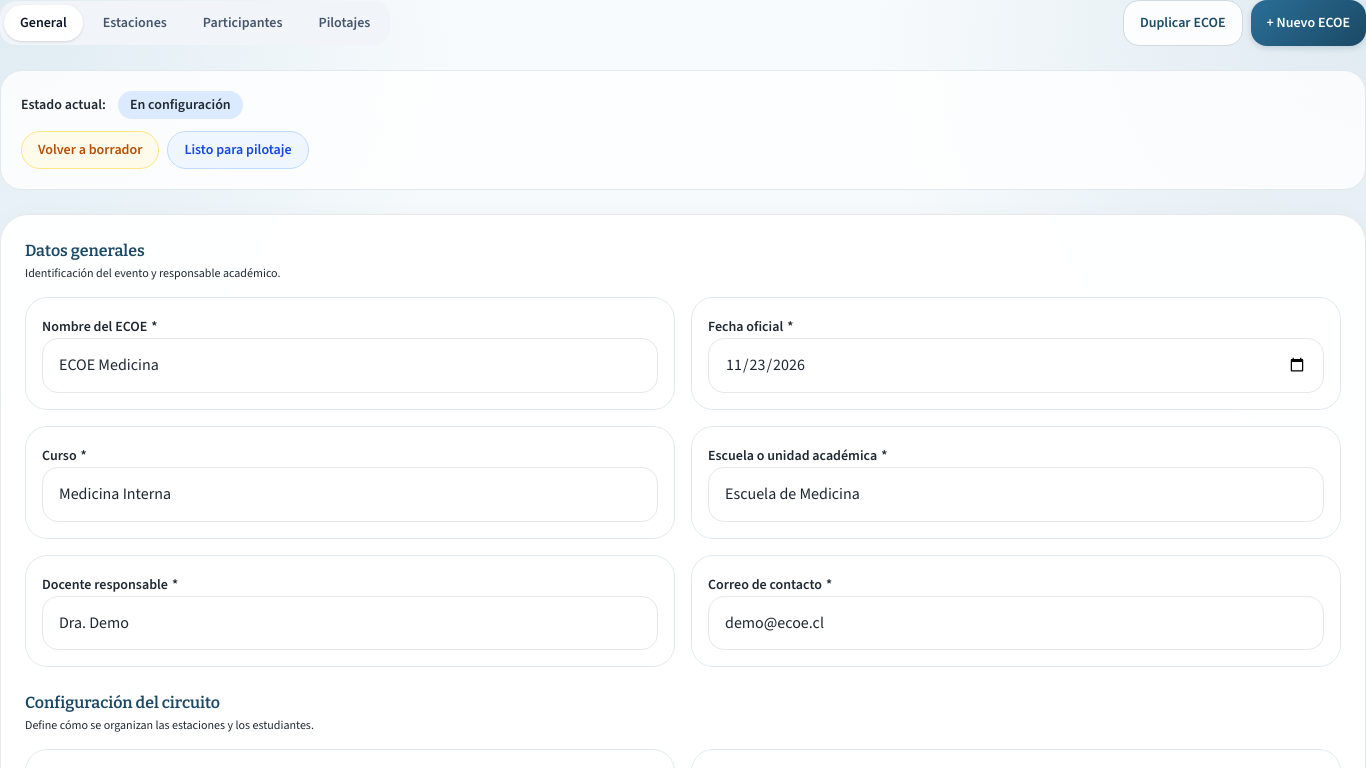
Test case: Datos del ECOE › la pestaña Estaciones muestra el resumen con etiquetas legibles y enlace de gestión
Click the tab "Estaciones". click: (135, 23)
box: top-left (87, 5), bottom-right (183, 41)
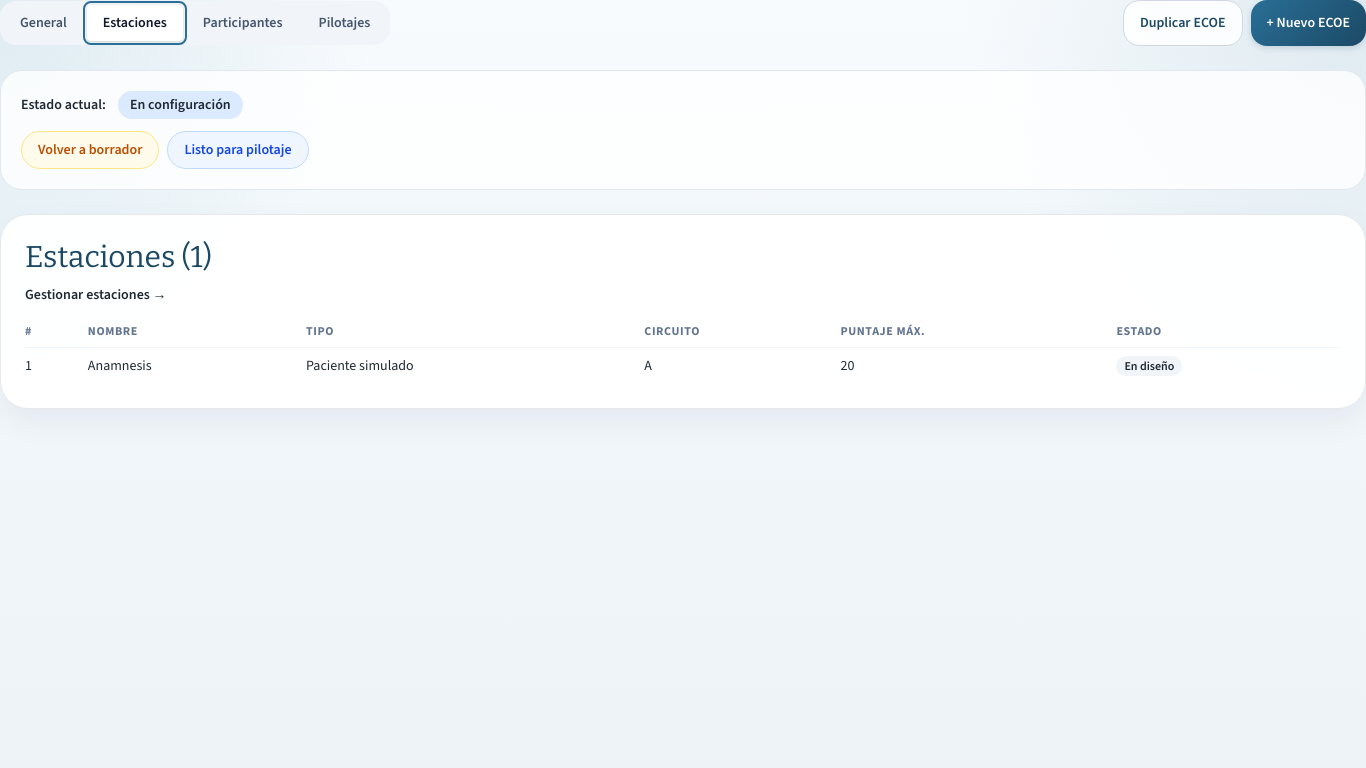
Expected: the text "Anamnesis" is shown, top-left (88, 348), bottom-right (306, 384)
Expected: the text "Paciente simulado" is shown, top-left (306, 348), bottom-right (644, 384)
